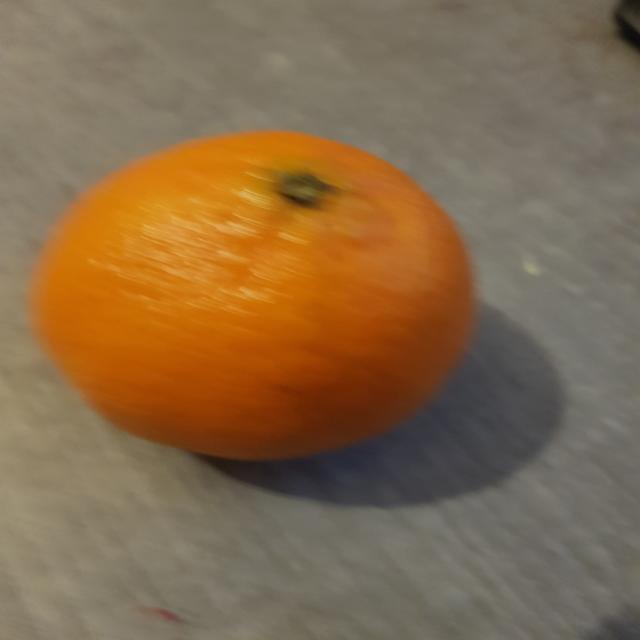Orange: (24, 131, 480, 465)
